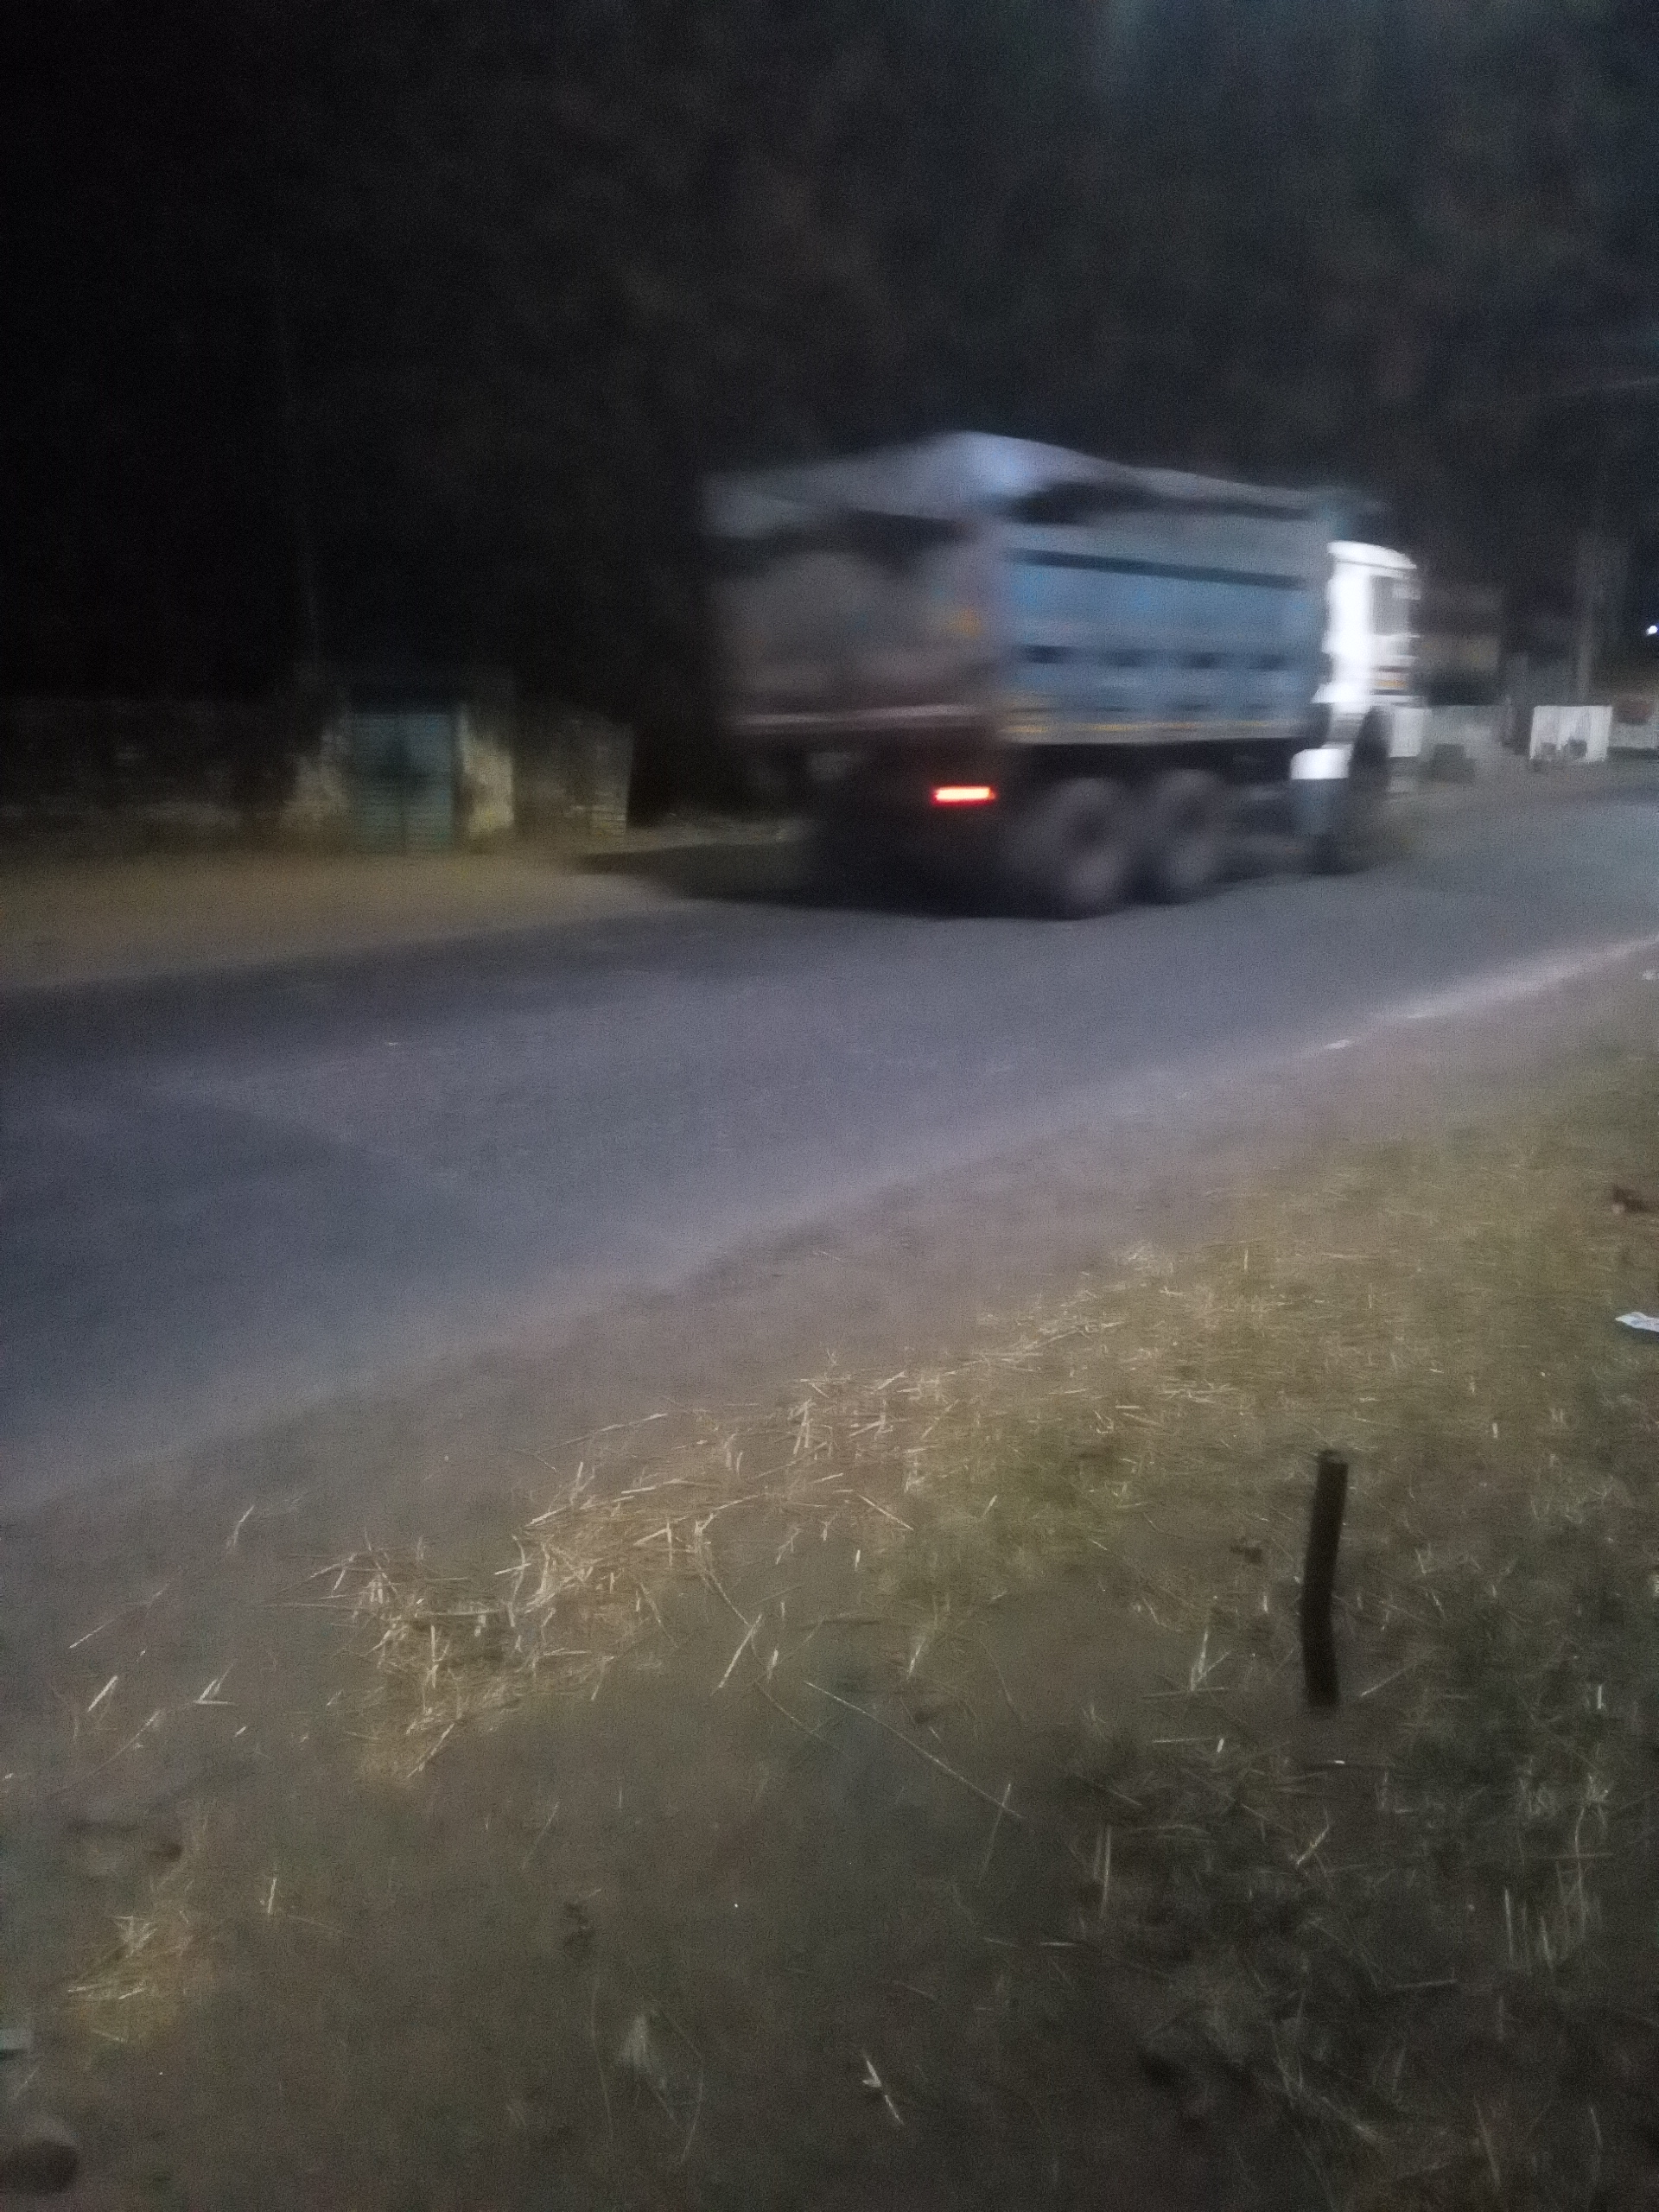truck: (692, 421, 1434, 920)
